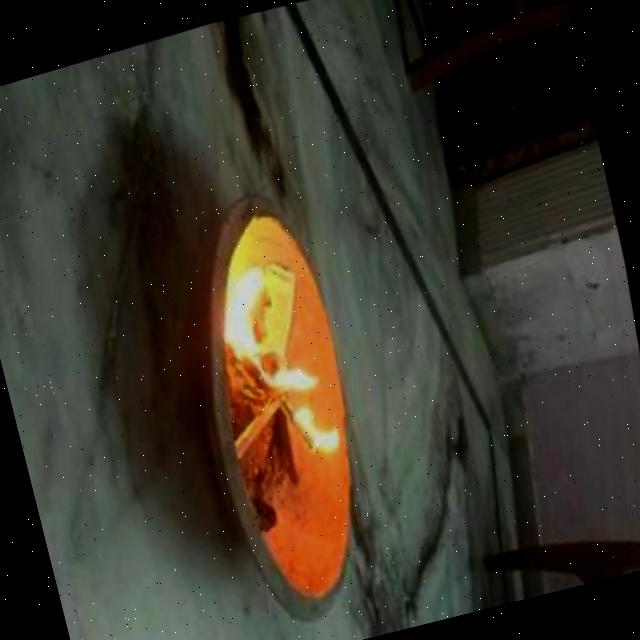fire: (188, 241, 355, 479)
